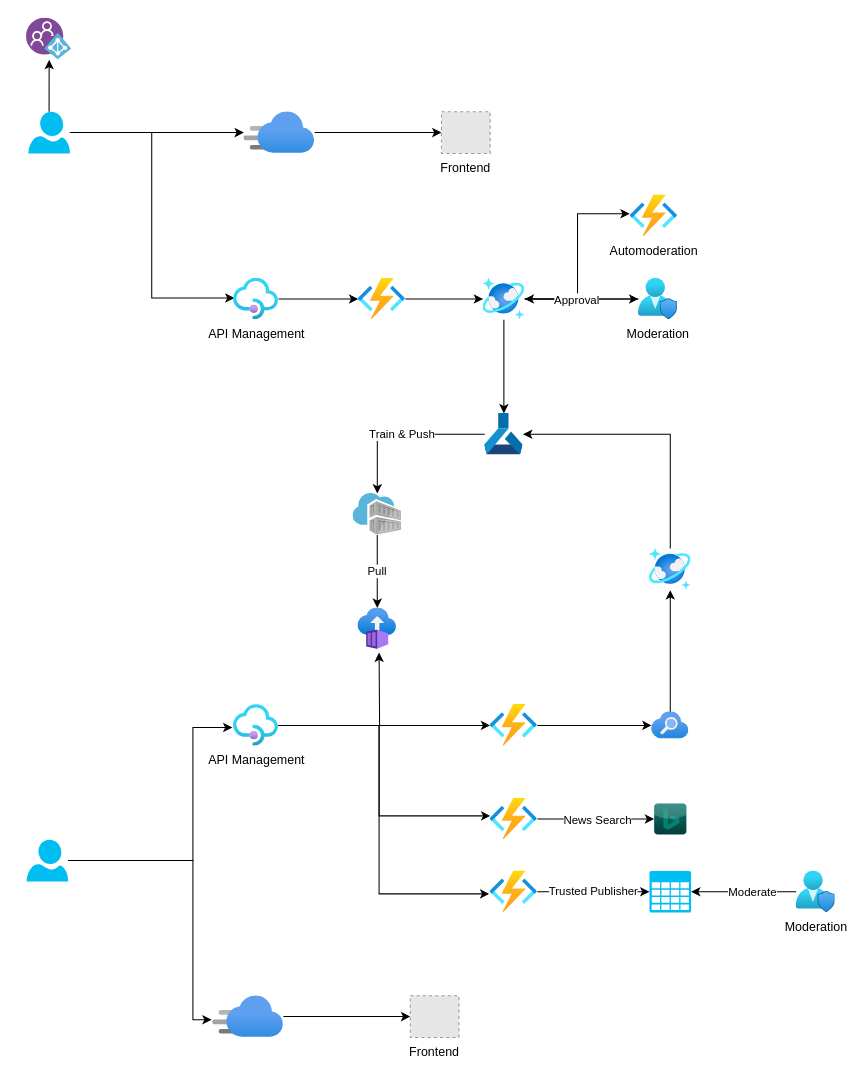
The diagram is 865 pixels wide and 1076 high, and some of its shapes have lost their labels. Grey dashed boxes stand in for pictures. Here are the shapes that lost their labels. From the top down, the centre of each, then its label:
the point at 48,132: Community
the point at 503,298: Community DB
the point at 670,569: FakeNews DB
